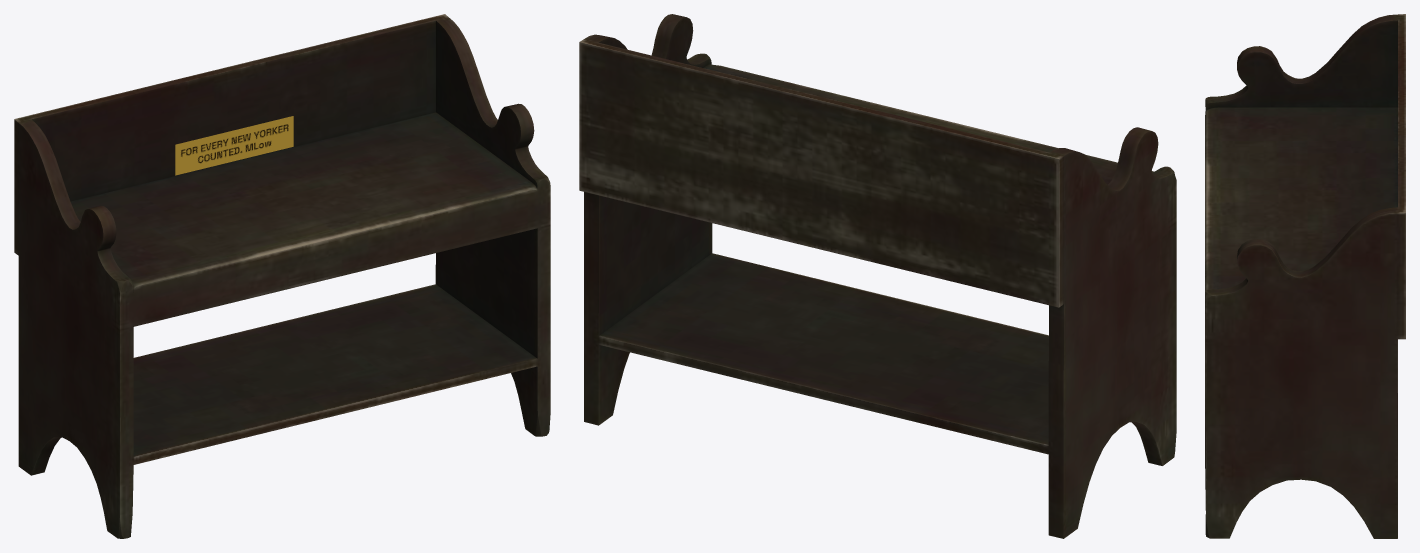
The model's file is nyb_bench_plaque.glb.
3 renders of one model, left to right at view 1: azimuth 30°, elevation 25°; view 2: azimuth 150°, elevation 25°; view 3: azimuth 270°, elevation 25°, orthographic. The views are drawn at different scales.
Visible parts, largest first — view 1: painted_wooden_bench, stk_lbl_c5cc70ce8c.png; view 2: painted_wooden_bench; view 3: painted_wooden_bench.
Part boxes in pixels (x1,y1,x2,y2): painted_wooden_bench: (14, 14, 550, 538); stk_lbl_c5cc70ce8c.png: (175, 116, 293, 175); painted_wooden_bench: (579, 14, 1176, 538); painted_wooden_bench: (1205, 14, 1405, 538).
Size of the model in its own units: 1.16 by 0.8893 by 0.4965.
Materials: 2 (2 with a texture image).
